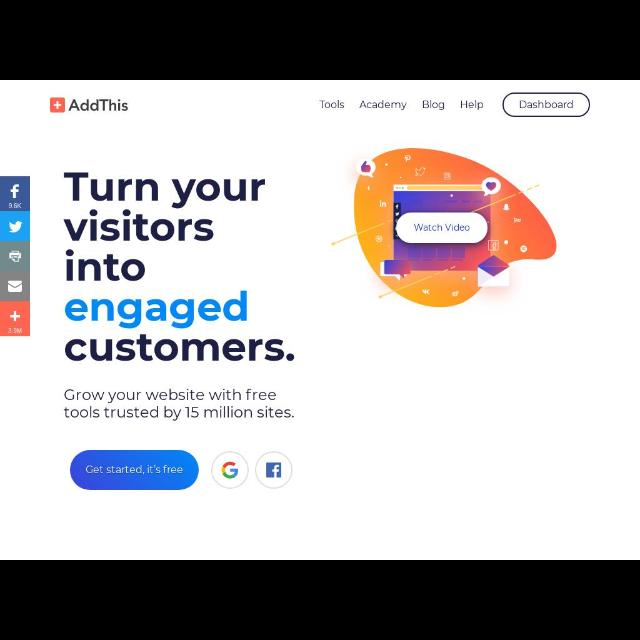button: (1, 177, 30, 211), (1, 302, 30, 336), (1, 241, 30, 271), (1, 272, 30, 302), (1, 212, 30, 240)
icon: (8, 280, 22, 292), (9, 251, 21, 261), (10, 312, 20, 322)
image: (332, 148, 556, 308), (51, 98, 128, 112), (222, 462, 238, 478), (266, 462, 282, 478), (10, 222, 22, 232), (11, 184, 19, 198)
text: (64, 173, 294, 361), (64, 389, 294, 421), (86, 465, 182, 475), (359, 100, 406, 110), (520, 100, 572, 108), (461, 100, 483, 110), (422, 100, 443, 110), (320, 100, 344, 108), (8, 328, 22, 334), (9, 204, 21, 208)
textbutton: (71, 450, 199, 490), (504, 92, 590, 118), (255, 452, 293, 488), (212, 452, 248, 488)
